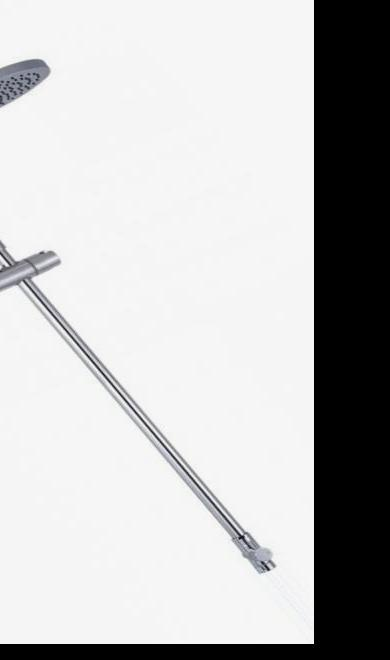Ducha: (0, 18, 296, 583)
